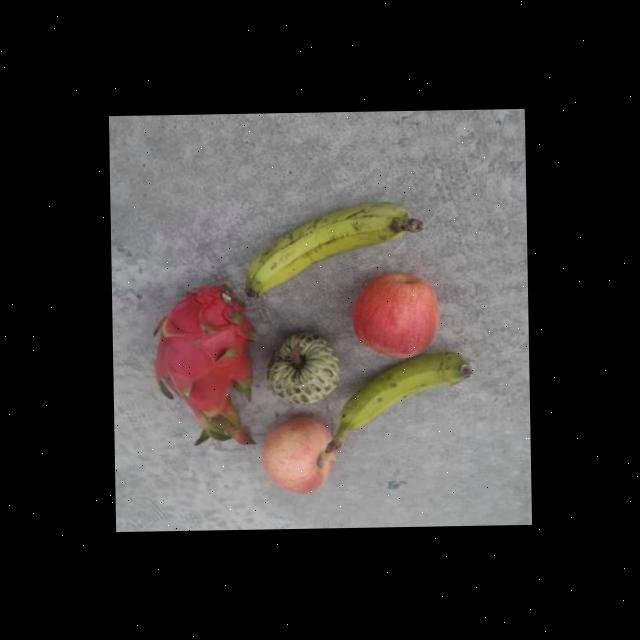Sakya fruit: (264, 330, 340, 406)
apple: (349, 269, 442, 360), (261, 412, 338, 493)
banana: (241, 200, 426, 300), (320, 349, 474, 454)
pitaya: (146, 284, 262, 446)
